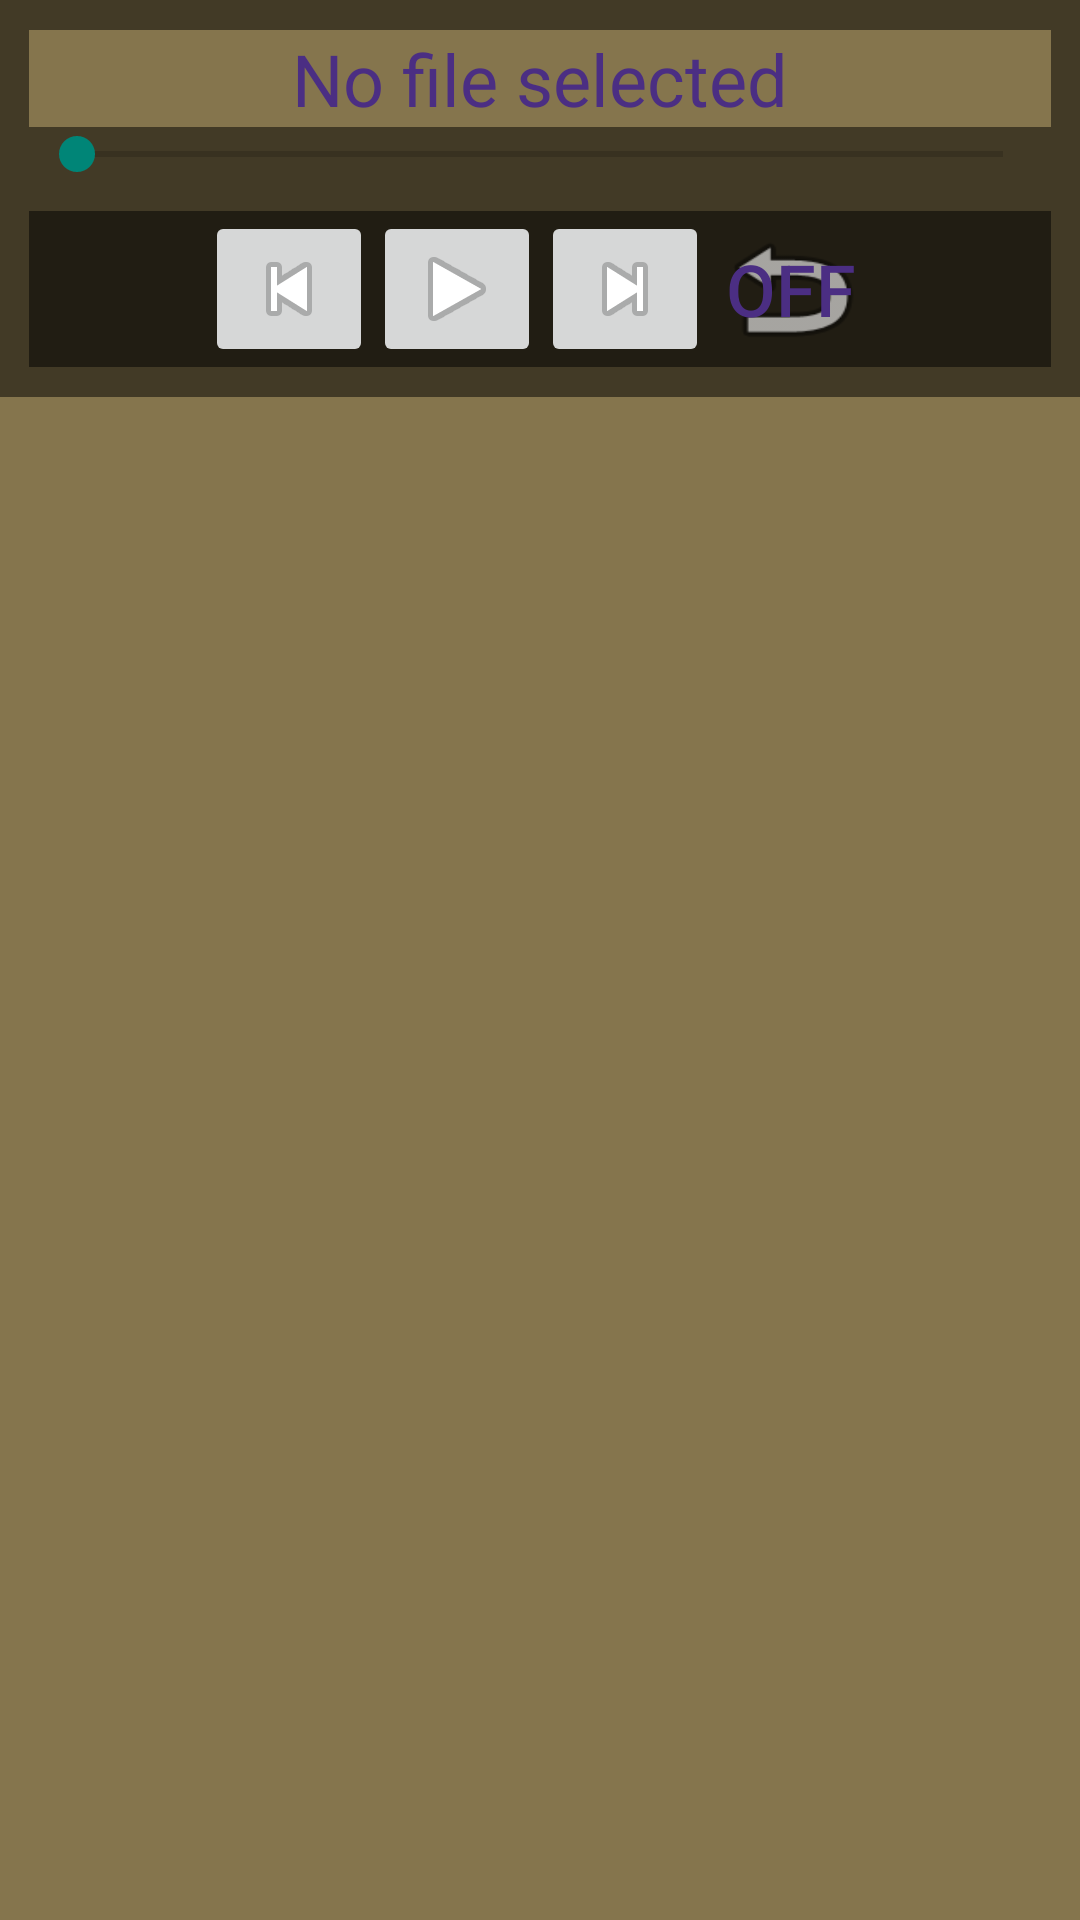

Screen size 1080x1920. Icon name, then its center in pixels as (x,y):
next: (625,289)
play: (457,289)
previous: (289,289)
